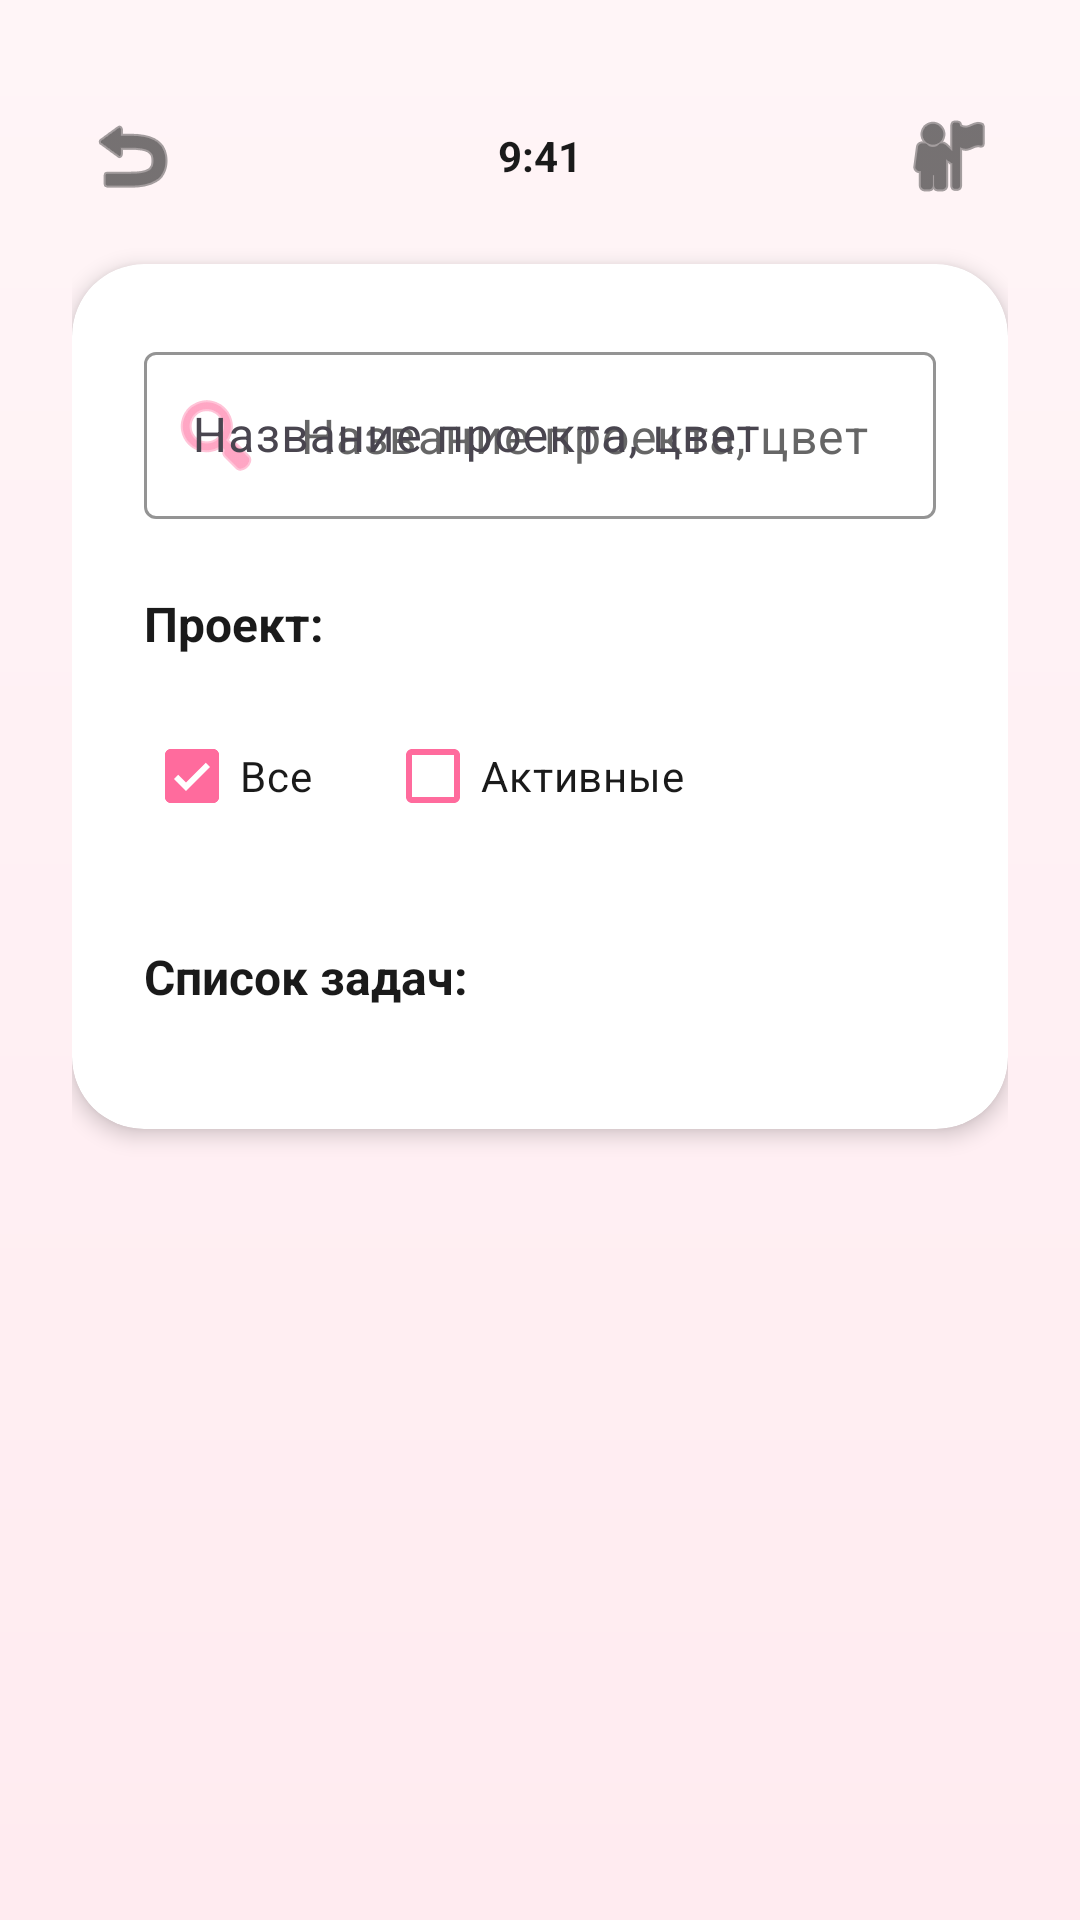

Screen size 1080w x 1920h. Icon name, then its center in pixels as (x=x, y=y):
myplaces: (x=949, y=156)
revert: (x=133, y=156)
